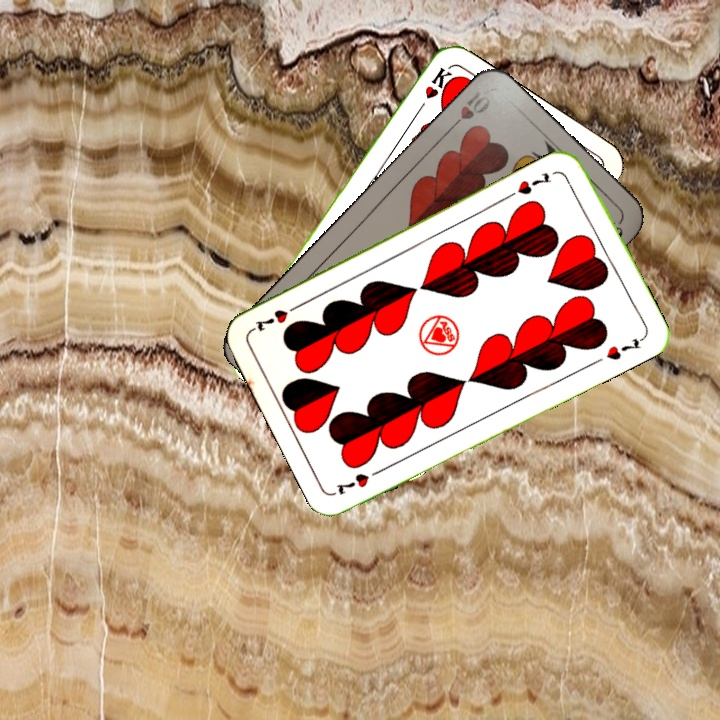H10: (444, 86, 493, 134)
H7: (331, 464, 386, 497), (505, 168, 555, 200)
HK: (412, 63, 454, 117)
